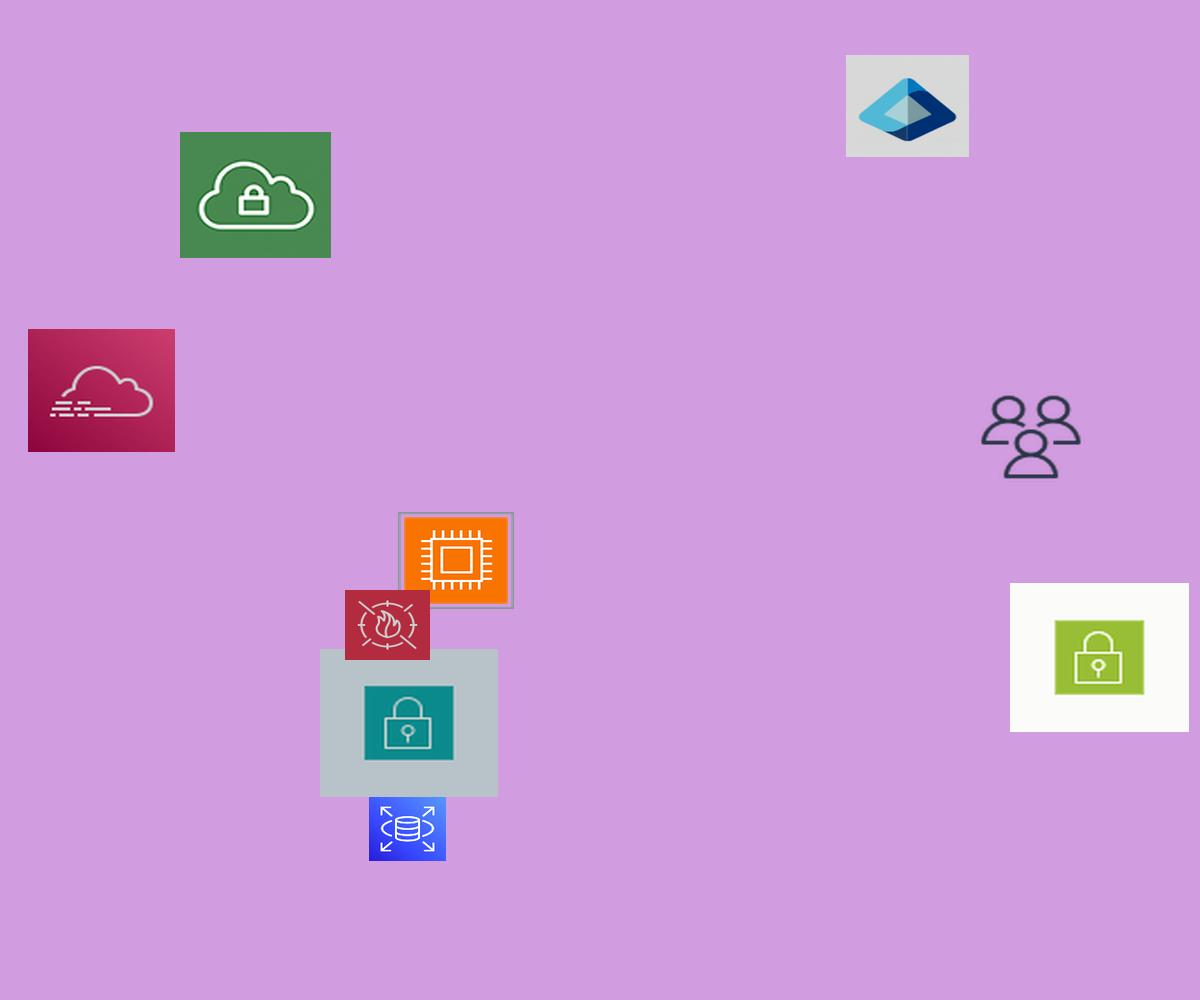AWS-Category_Compute: (398, 512, 514, 609)
AWS-CloudTrail: (28, 329, 175, 452)
AWS-Private-subnet: (320, 649, 498, 797)
AWS-Private_vpc: (180, 132, 331, 258)
AWS-Public-subnet: (1010, 583, 1189, 732)
AWS-RDS: (369, 797, 446, 861)
AWS-Res_Users: (977, 392, 1085, 482)
AWS-WAF: (345, 590, 430, 660)
Azure_microsoft_entra: (846, 55, 969, 157)
